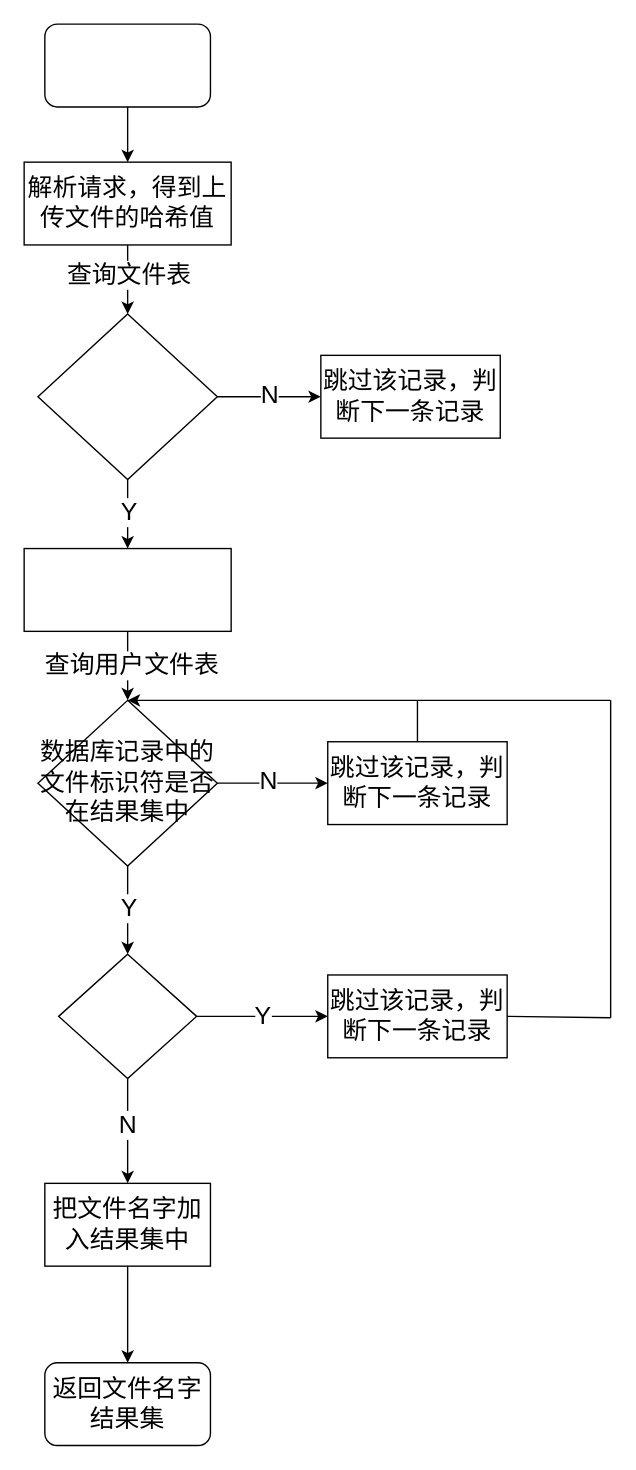
Some shapes in this 636 by 1470 pixel diagram are drawn without their labels. The centre of each missing label's shape, as x and y in pixels:
"前端发起请求" goes at point (126, 65).
"把对应文件的标识符加入到结果集中" goes at point (127, 589).
"文件哈希值是否等于传入哈希值" goes at point (127, 396).
"该文件是否已经删除" goes at point (127, 1015).
